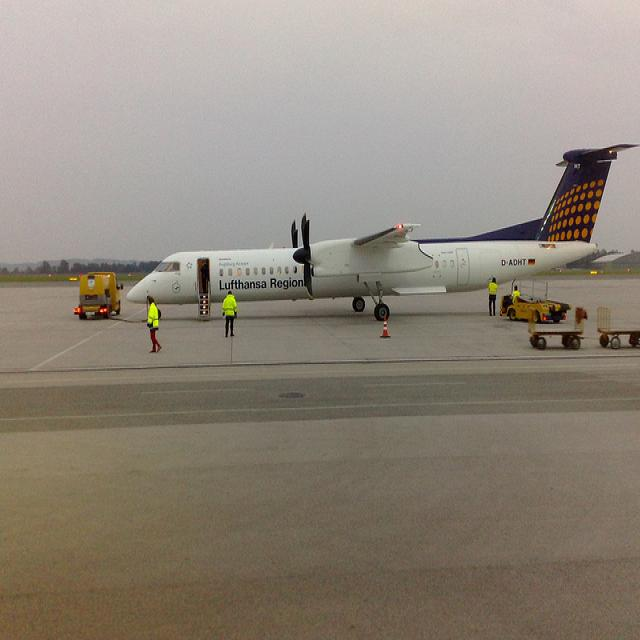Vehicle: (500, 278, 572, 324), (73, 274, 124, 320)
